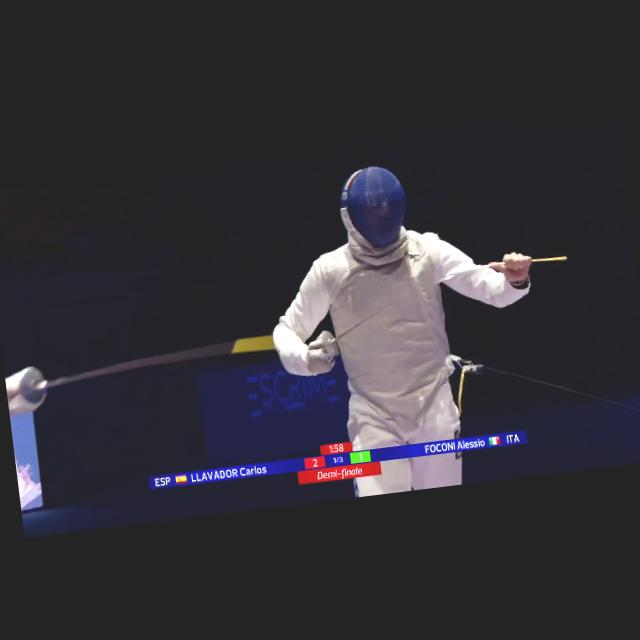blade: (308, 248, 582, 366)
